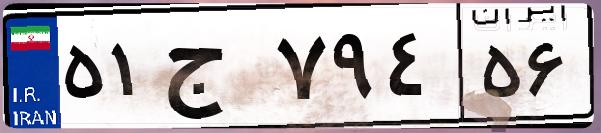1: (110, 28, 158, 98)
4: (385, 28, 445, 110)
5: (57, 26, 110, 100), (475, 38, 525, 113)
6: (525, 38, 570, 115)
7: (270, 28, 330, 110)
9: (330, 28, 385, 110)
ج: (158, 20, 270, 120)
